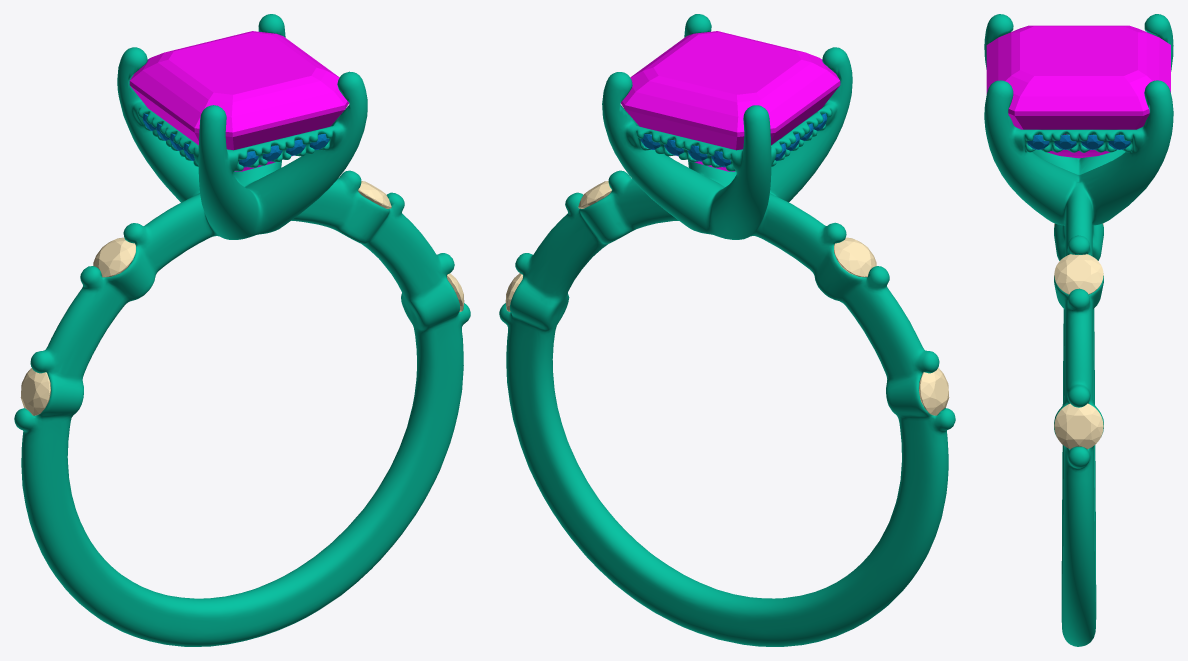
File: BE1D607_AS_200ct_RENDER.glb
3 views of the same model, side by side, from view 1: azimuth 30°, elevation 25°; view 2: azimuth 150°, elevation 25°; view 3: azimuth 270°, elevation 25° (orthographic).
Visible parts, largest first — view 1: Metal 01, CS_Diamond_Asscher, Diamond_Round_Gem_SH, Diamond_Round_Gem_SH.001; view 2: Metal 01, CS_Diamond_Asscher, Diamond_Round_Gem_SH, Diamond_Round_Gem_SH.001; view 3: Metal 01, CS_Diamond_Asscher, Diamond_Round_Gem_SH.002, Diamond_Round_Gem_SH.003.
Part boxes in pixels (x1,y1,x2,y2): Metal 01: (14, 14, 470, 646); CS_Diamond_Asscher: (129, 31, 348, 171); Diamond_Round_Gem_SH: (93, 237, 135, 277); Diamond_Round_Gem_SH.001: (20, 368, 50, 415); Metal 01: (499, 14, 955, 646); CS_Diamond_Asscher: (621, 31, 840, 171); Diamond_Round_Gem_SH: (834, 237, 876, 277); Diamond_Round_Gem_SH.001: (919, 368, 949, 415); Metal 01: (984, 14, 1173, 646); CS_Diamond_Asscher: (986, 25, 1170, 158); Diamond_Round_Gem_SH.002: (1054, 403, 1103, 449); Diamond_Round_Gem_SH.003: (1054, 254, 1103, 294).
Bounding box in the file's own units: 21.13 × 25.81 × 7.7.
